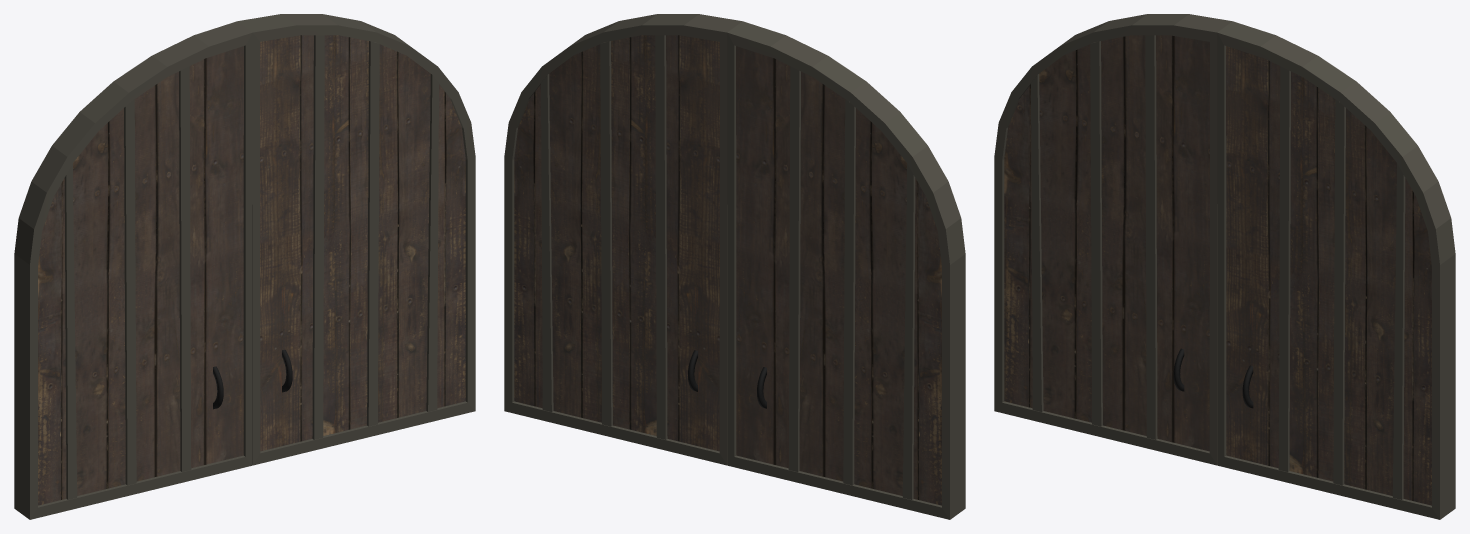
The model's file is Doors.fbx.
The picture shows the model from 3 angles, left to right: view 1: azimuth 30°, elevation 25°; view 2: azimuth 150°, elevation 25°; view 3: azimuth 330°, elevation 25°; orthographic projection.
Parts seen in each view (by area): view 1: BranaDrevena; view 2: BranaDrevena; view 3: BranaDrevena.
Boxes of the visible parts, x1,y1,x2,y2 form: BranaDrevena: [14, 14, 475, 519]; BranaDrevena: [504, 14, 965, 519]; BranaDrevena: [994, 14, 1455, 519].
Size of the model in its own units: 767 by 712 by 77.63.
